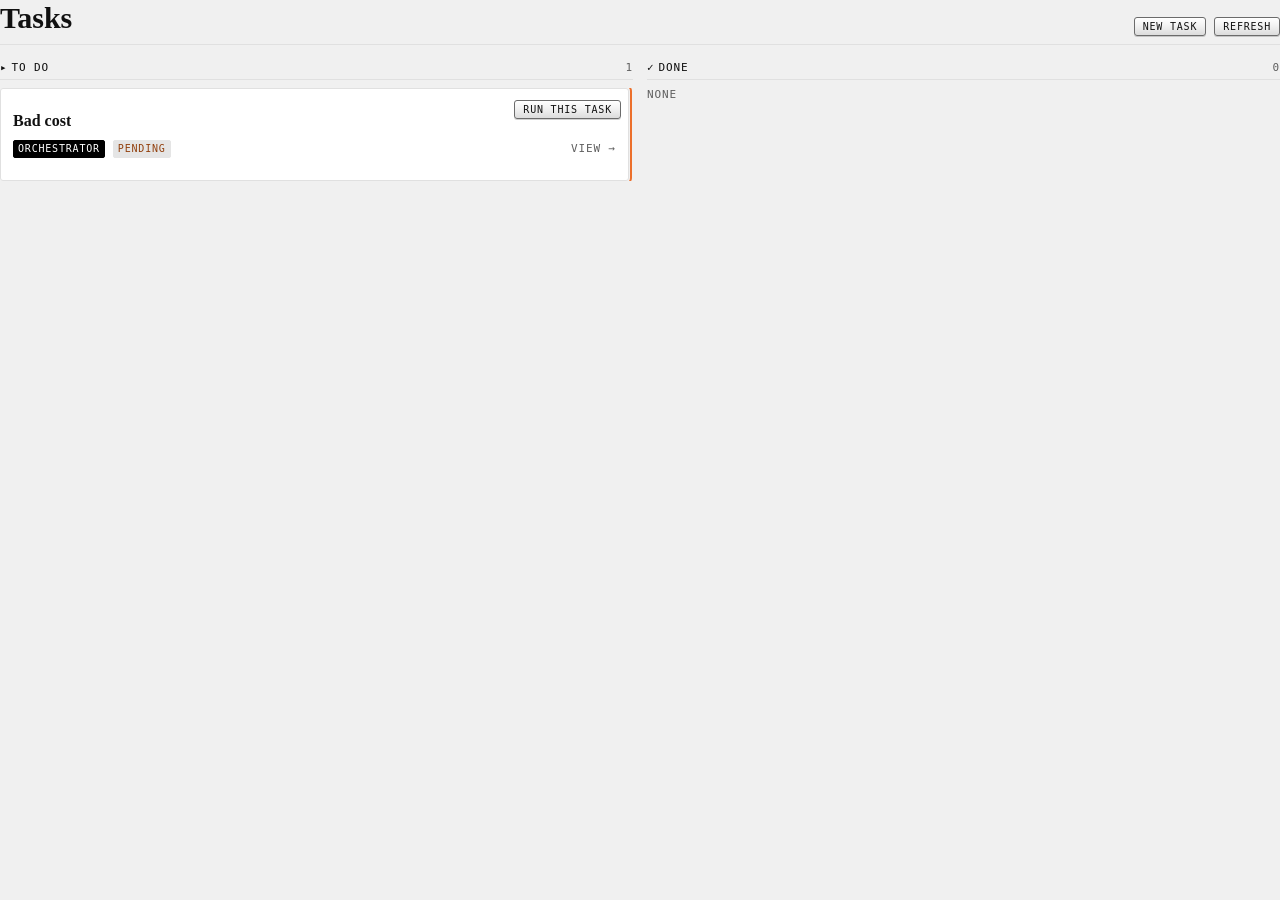
run truth (B4) › refuses to format a non-numeric cost as money (defensive, honest)
Click the button "Bad cost orchestrator pending View →": (42, 121) [0,88,629,181]
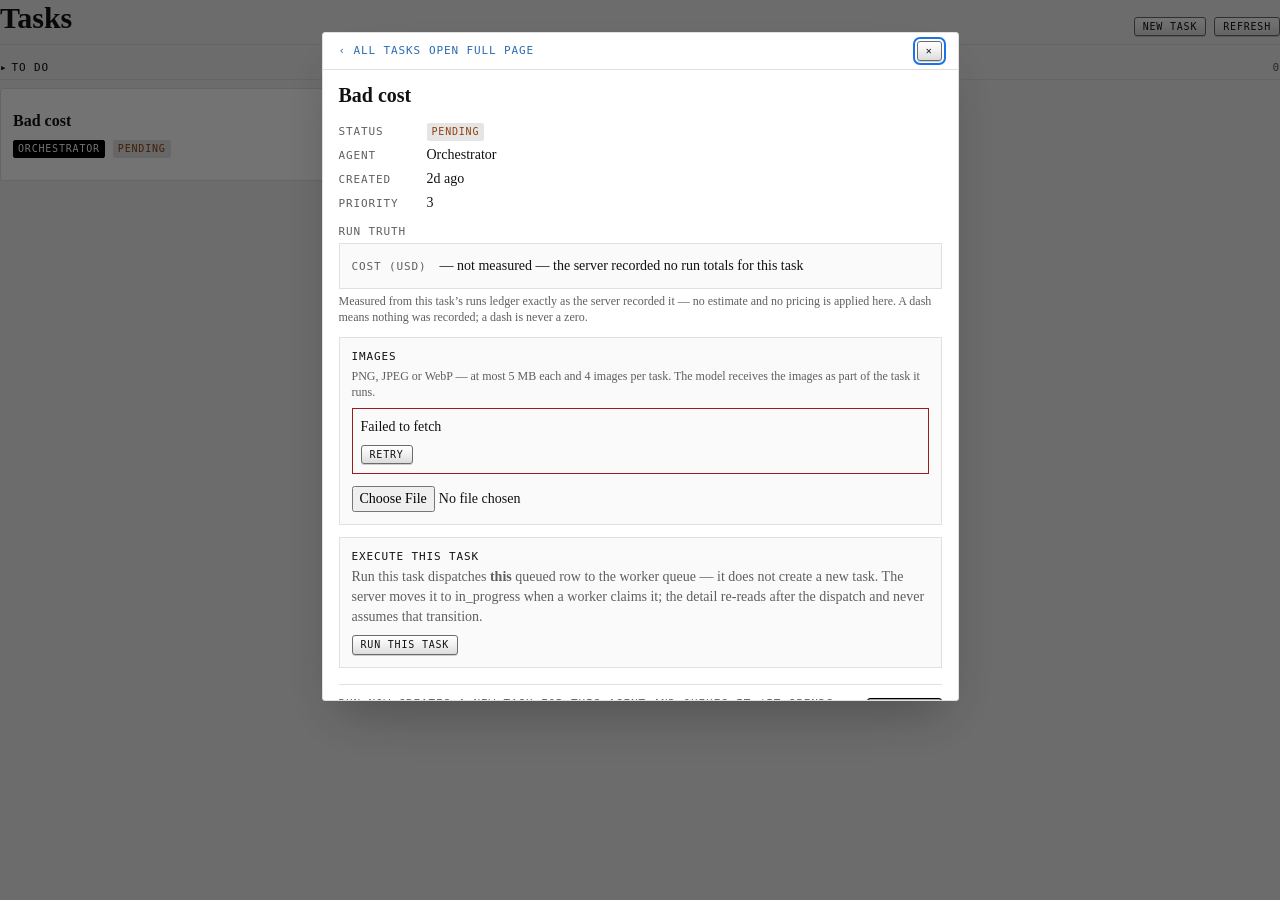
Check: the text "not measured" is shown, box [440,258,803,273]
